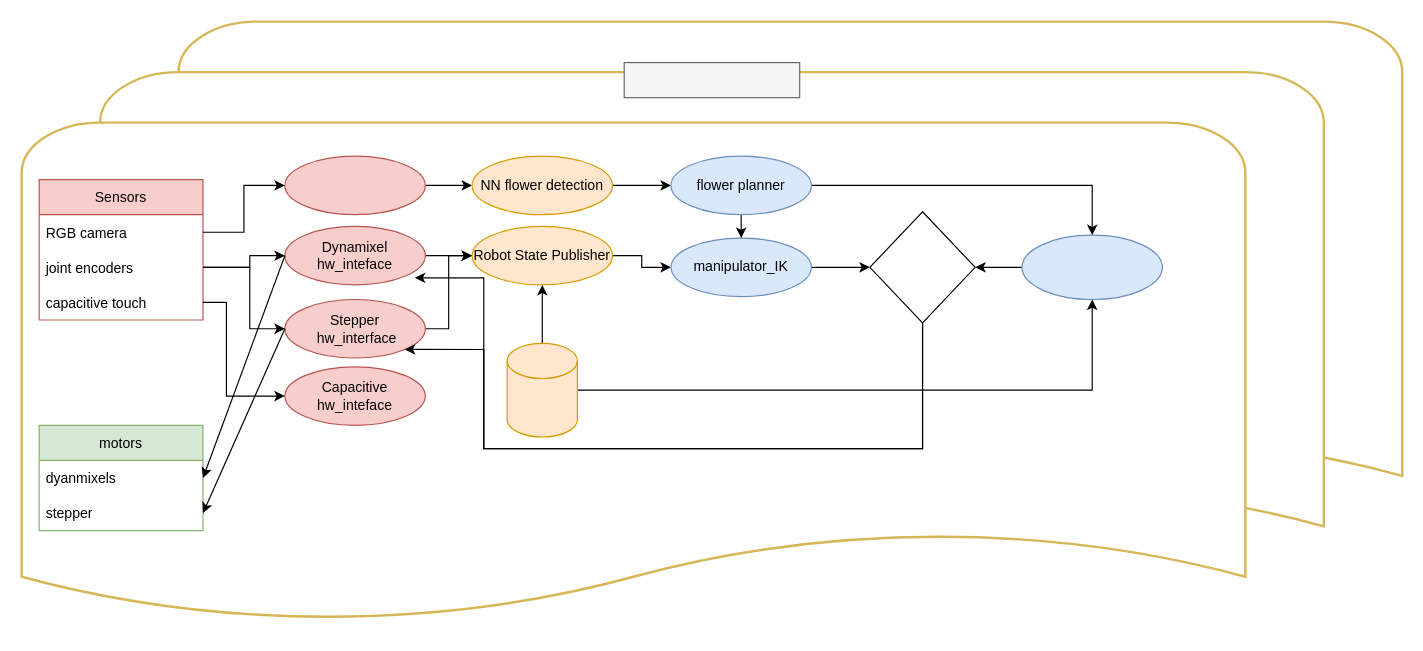
Image size: 1423x651. Some labels were removed from this diagram. Here are the shapes that lost their labels. From the top down, the centre of each, then its label:
At point (711, 79): "Stickbug Arms".
At point (354, 185): "usb_cam_node".
At point (922, 267): "use movit or IK".
At point (1091, 267): "MoveIT".
At point (541, 389): "URDF Model".
